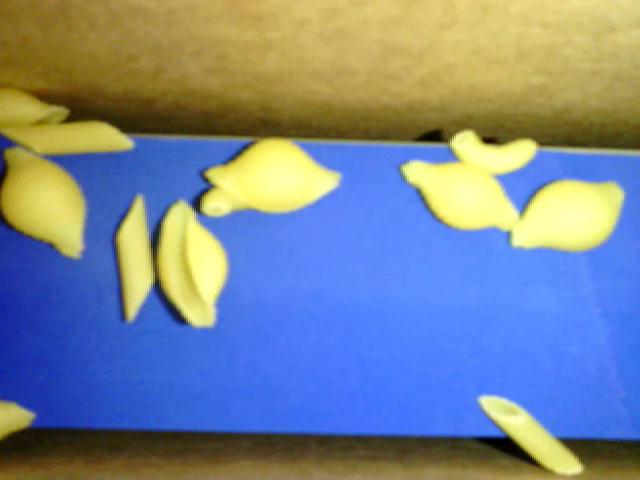elbow: (450, 129, 539, 174)
penne: (474, 391, 583, 474), (111, 190, 154, 326), (1, 118, 138, 155), (1, 398, 38, 448)
shell: (203, 137, 342, 210), (152, 197, 228, 330), (1, 142, 87, 258), (398, 156, 519, 232), (510, 175, 625, 252), (1, 89, 73, 134)
